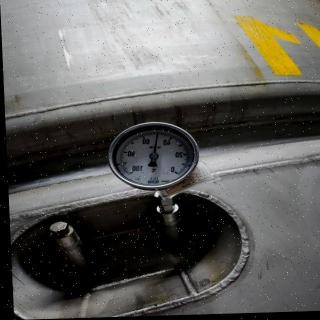gauge: (108, 121, 200, 191), (121, 164, 143, 180), (169, 166, 182, 179), (151, 153, 157, 159), (155, 132, 159, 138)
